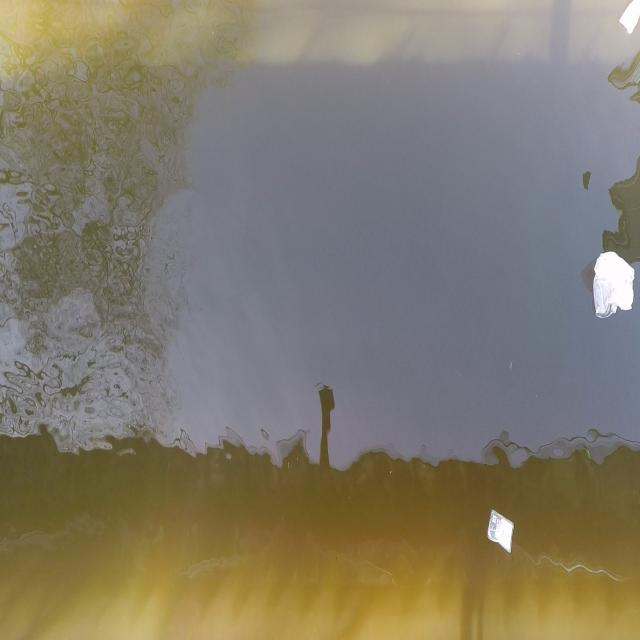Autre plastique: (481, 500, 520, 561)
Sac plastique: (590, 244, 636, 325)
